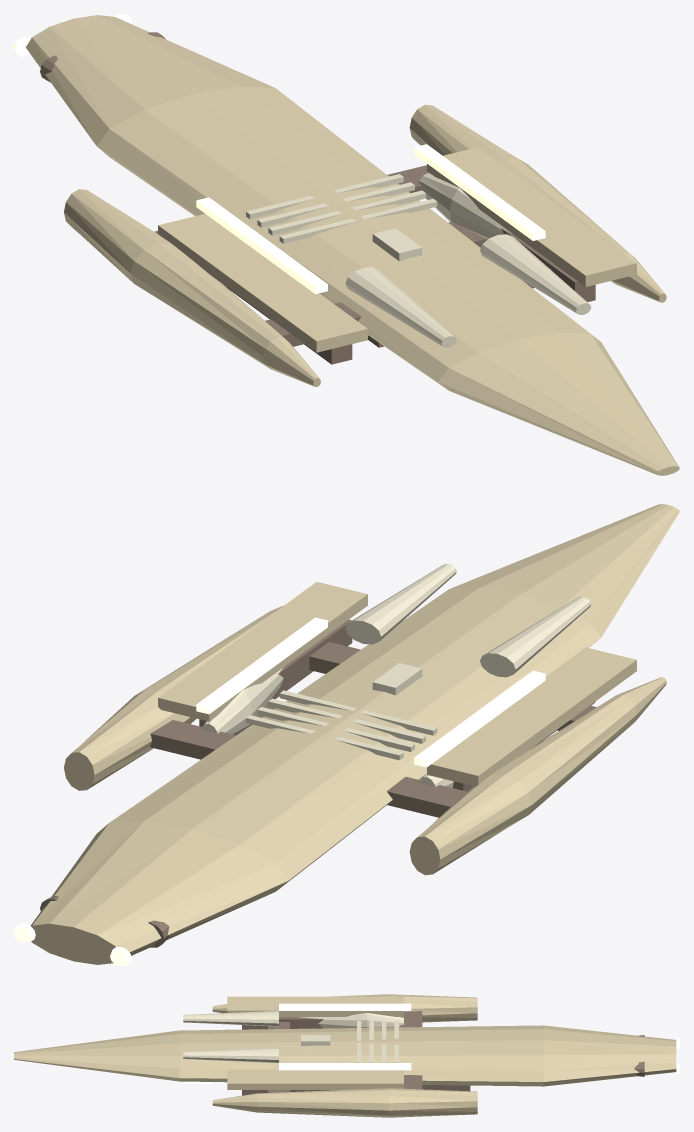
The picture shows the model from 3 angles, top to bottom: view 1: azimuth 30°, elevation 25°; view 2: azimuth 150°, elevation 25°; view 3: azimuth 270°, elevation 25°; orthographic projection. The views are drawn at different scales.
Size of the model in its own units: 7.1 by 1.63 by 18.28.
